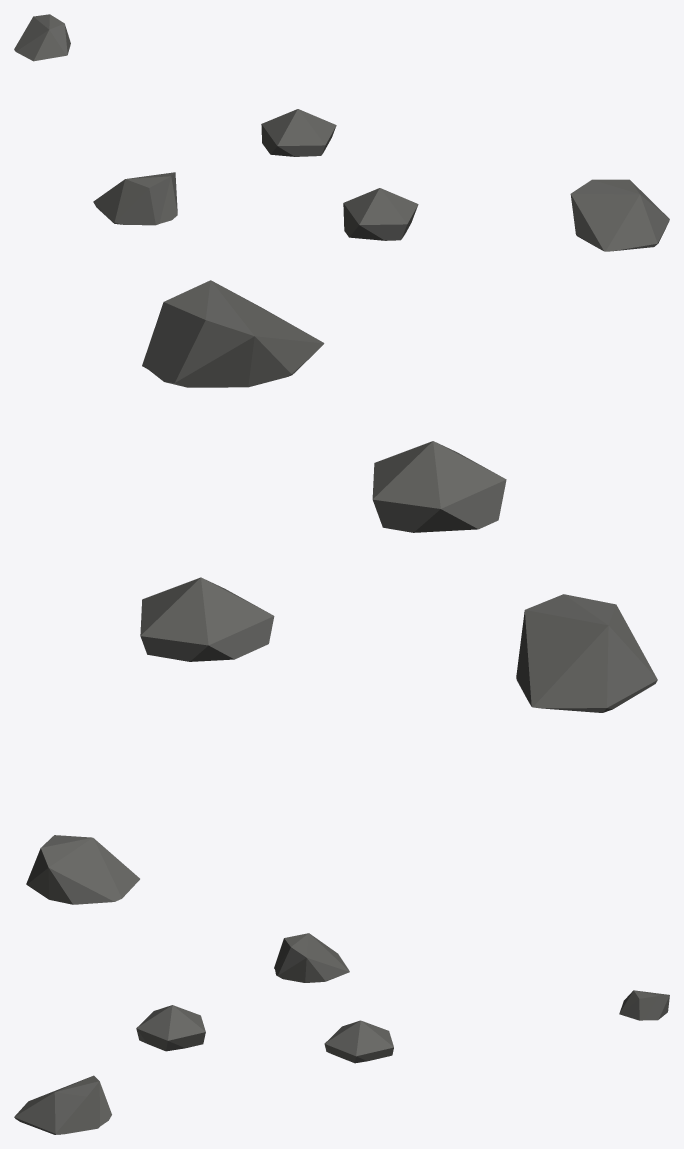
File: SM_Envr_Nature_Rock_Rubble_02.fbx
3 renders of one model, top to bottom at view 1: azimuth 30°, elevation 25°; view 2: azimuth 150°, elevation 25°; view 3: azimuth 270°, elevation 25°, orthographic. The views are drawn at different scales.
Parts seen in each view (by area): view 1: SM_Envr_Nature_Rock_Rubble_02; view 2: SM_Envr_Nature_Rock_Rubble_02; view 3: SM_Envr_Nature_Rock_Rubble_02.
Boxes of the visible parts, x1,y1,x2,y2 form: SM_Envr_Nature_Rock_Rubble_02: (14,14,669,251); SM_Envr_Nature_Rock_Rubble_02: (26,280,657,904); SM_Envr_Nature_Rock_Rubble_02: (14,933,669,1134).
Size of the model in its own units: 144 by 12.83 by 221.
